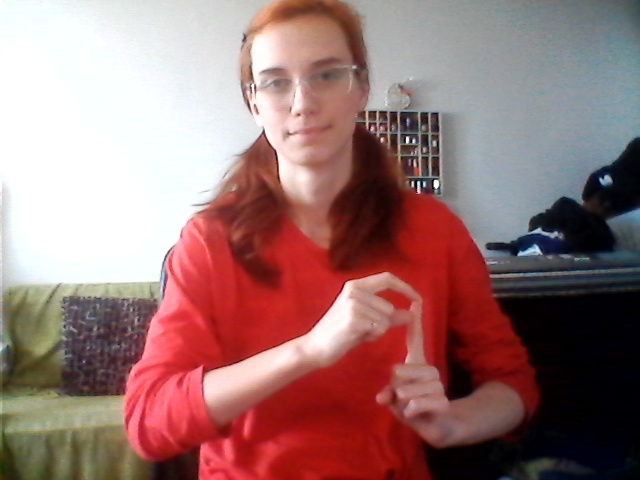p: (320, 271, 446, 456)
